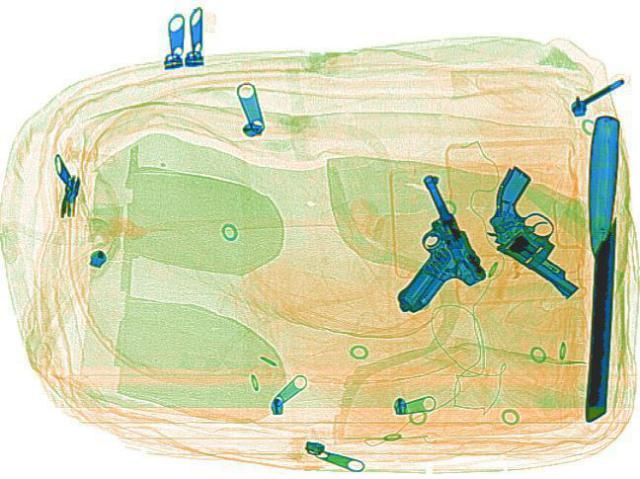Gun: (443, 164, 633, 293), (338, 173, 498, 310)
Knife: (580, 114, 618, 419)
